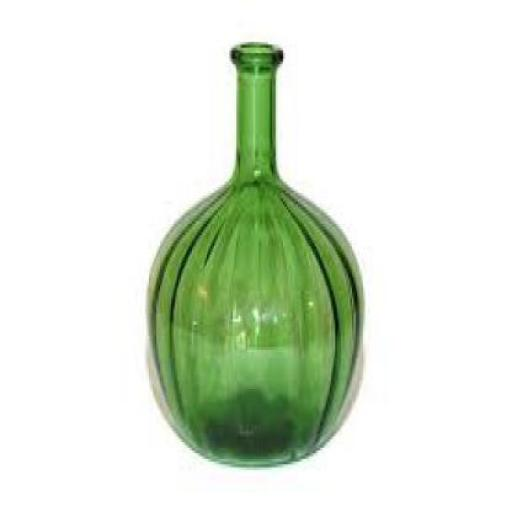glass: (145, 42, 363, 461)
